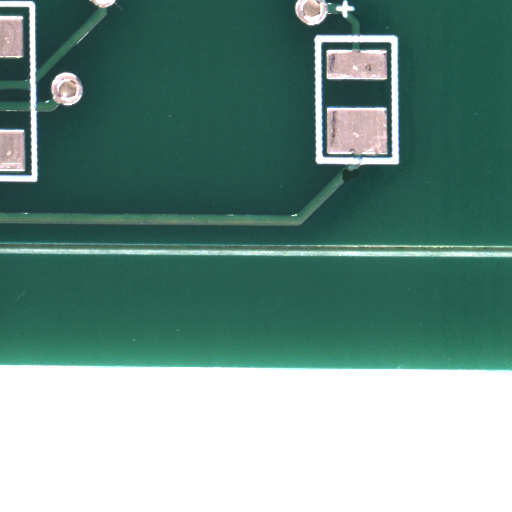Mouse_bite: (350, 175, 368, 188)
